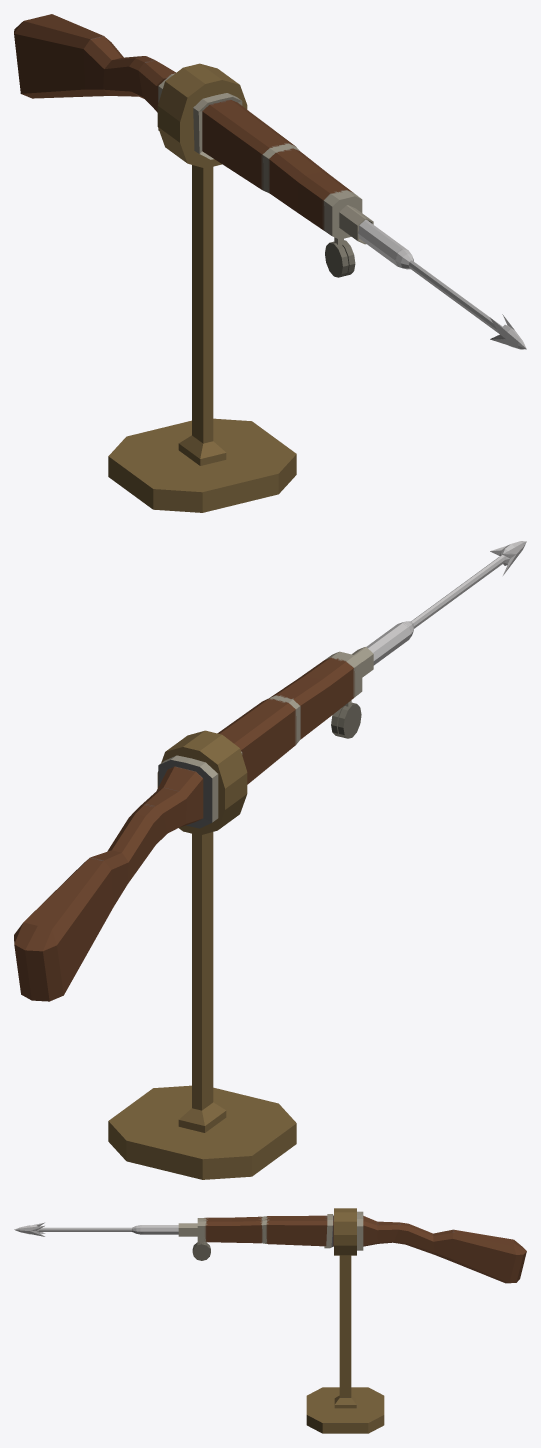
Rendered from HarpoonGunLoaded2.fbx.
The picture shows the model from 3 angles, top to bottom: view 1: azimuth 30°, elevation 25°; view 2: azimuth 150°, elevation 25°; view 3: azimuth 270°, elevation 25°; orthographic projection. The views are drawn at different scales.
Parts seen in each view (by area): view 1: Stand, Gun, Harpoon; view 2: Gun, Stand, Harpoon; view 3: Gun, Stand, Harpoon.
Part boxes in pixels (left/top/right/bottom): Stand: left=108, top=63, right=296, bottom=512; Gun: left=14, top=14, right=373, bottom=277; Harpoon: left=358, top=219, right=526, bottom=349; Gun: left=14, top=647, right=373, bottom=1001; Stand: left=108, top=730, right=296, bottom=1179; Harpoon: left=366, top=541, right=526, bottom=665; Gun: left=178, top=1211, right=526, bottom=1283; Stand: left=306, top=1208, right=384, bottom=1433; Harpoon: left=14, top=1222, right=178, bottom=1236.
Size of the model in its own units: 45.85 by 123 by 278.
